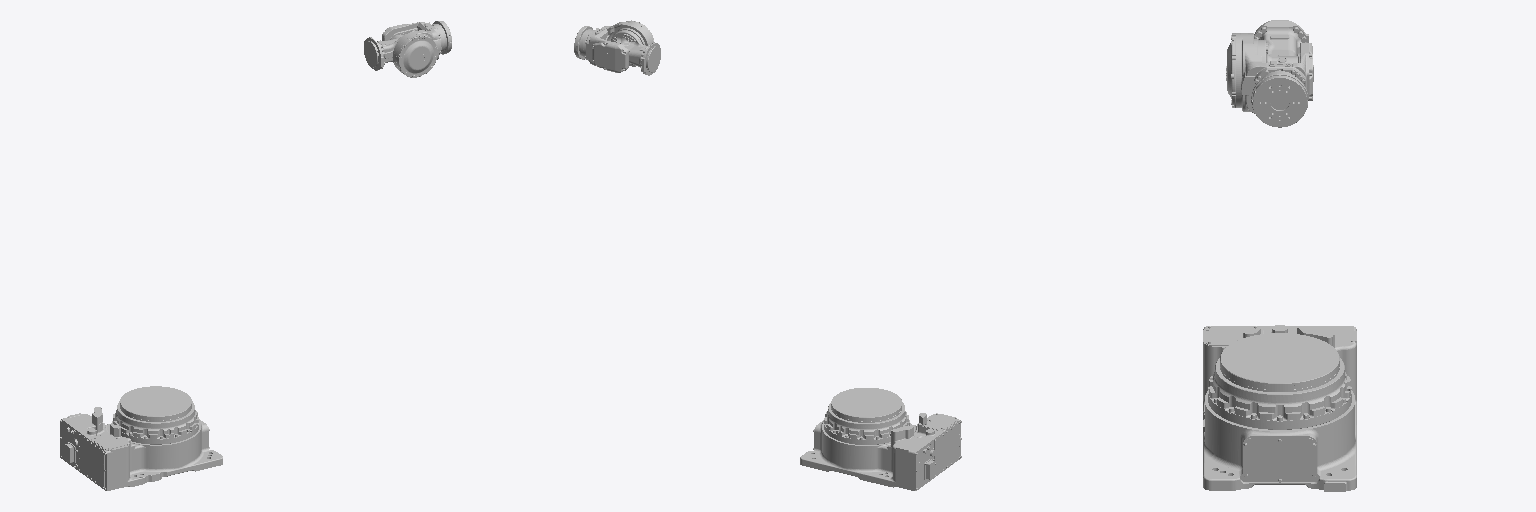
robot.urdf — model:
<?xml version="1.0"?>
<robot name="model">
    <link name="base_link">
        <visual name="GP225_SP210.0 (Meshed)1">
            <material name="">
                <color rgba="0.8 0.8 0.8 1"/>
            </material>
            <geometry>
                <mesh filename="package://snp_blending/urdf/gp225/visual_filtered/base_link_visual_0.stl"/>
            </geometry>
        </visual>

    </link>
    <link name="link_1">
        <visual name="GP225_SP210.1 (Meshed)1">
            <origin xyz="0 0 -0.3"/>
            <material name="">
                <color rgba="0.8 0.8 0.8 1"/>
            </material>
            <geometry>
                <mesh filename="package://snp_blending/urdf/gp225/visual_filtered/link_1_visual_0.stl"/>
            </geometry>
        </visual>
        <collision name="ConvexHull004">
            <origin xyz="0 0 -0.3"/>
            <geometry>
                <mesh filename="package://snp_blending/urdf/gp225/collision_filtered/link_1_ConvexHull004.stl"/>
            </geometry>
        </collision>
    </link>
    <link name="link_2">
        <visual name="Fusion (Meshed)1">
            <origin xyz="-0.325 0 -0.65"/>
            <material name="">
                <color rgba="0.8 0.8 0.8 1"/>
            </material>
            <geometry>
                <mesh filename="package://snp_blending/urdf/gp225/visual_filtered/link_2_visual_0.stl"/>
            </geometry>
        </visual>
        <collision name="ConvexHull002">
            <origin xyz="-0.325 0 -0.65"/>
            <geometry>
                <mesh filename="package://snp_blending/urdf/gp225/collision_filtered/link_2_ConvexHull002.stl"/>
            </geometry>
        </collision>
    </link>
    <link name="link_3">
        <visual name="GP225_SP210.5 (Meshed)1">
            <origin xyz="-0.325 0 -1.8"/>
            <material name="">
                <color rgba="0.8 0.8 0.8 1"/>
            </material>
            <geometry>
                <mesh filename="package://snp_blending/urdf/gp225/visual_filtered/link_3_visual_0.stl"/>
            </geometry>
        </visual>
        <collision name="ConvexHull005">
            <origin xyz="-0.325 0 -1.8"/>
            <geometry>
                <mesh filename="package://snp_blending/urdf/gp225/collision_filtered/link_3_ConvexHull005.stl"/>
            </geometry>
        </collision>
    </link>
    <link name="link_4">
        <visual name="GP225_SP210.6 (Meshed)1">
            <origin xyz="-1.325 0 -2.1"/>
            <material name="">
                <color rgba="0.8 0.8 0.8 1"/>
            </material>
            <geometry>
                <mesh filename="package://snp_blending/urdf/gp225/visual_filtered/link_4_visual_0.stl"/>
            </geometry>
        </visual>
        <collision name="ConvexHull006">
            <origin xyz="-1.325 0 -2.1"/>
            <geometry>
                <mesh filename="package://snp_blending/urdf/gp225/collision_filtered/link_4_ConvexHull006.stl"/>
            </geometry>
        </collision>
    </link>
    <link name="link_5">
        <visual name="GP225_SP210.7 (Meshed)1">
            <origin xyz="-1.548 0 -2.1"/>
            <material name="">
                <color rgba="0.8 0.8 0.8 1"/>
            </material>
            <geometry>
                <mesh filename="package://snp_blending/urdf/gp225/visual_filtered/link_5_visual_0.stl"/>
            </geometry>
        </visual>
        <visual name="GP225_SP210.7 (Meshed)2">
            <origin xyz="-1.548 0 -2.1"/>
            <material name="">
                <color rgba="0.8 0.8 0.8 1"/>
            </material>
            <geometry>
                <mesh filename="package://snp_blending/urdf/gp225/visual_filtered/link_5_visual_0.stl"/>
            </geometry>
        </visual>
        <collision name="ConvexHull007">
            <origin xyz="-1.548 0 -2.1"/>
            <geometry>
                <mesh filename="package://snp_blending/urdf/gp225/collision_filtered/link_5_ConvexHull007.stl"/>
            </geometry>
        </collision>
    </link>
    <link name="link_6">
        <visual name="GP225_SP210.8 (Meshed)">
            <origin xyz="-1.798 0 -2.1"/>
            <material name="">
                <color rgba="0.8 0.8 0.8 1"/>
            </material>
            <geometry>
                <mesh filename="package://snp_blending/urdf/gp225/visual_filtered/link_6_visual.stl"/>
            </geometry>
        </visual>
        <collision name="ConvexHull008">
            <origin xyz="-1.798 0 -2.1"/>
            <geometry>
                <mesh filename="package://snp_blending/urdf/gp225/collision_filtered/link_6_ConvexHull008.stl"/>
            </geometry>
        </collision>
    </link>
    <joint name="joint_link_1" type="revolute">
        <origin xyz="0 0 0.3"/>
        <parent link="base_link"/>
        <child link="link_1"/>
        <axis xyz="0 0 1"/>
        <limit lower="-3.14" upper="3.14" effort="0" velocity="0"/>
    </joint>
    <joint name="joint_link_2" type="revolute">
        <origin xyz="0.325 0 0.35"/>
        <parent link="link_1"/>
        <child link="link_2"/>
        <axis xyz="0 1 0"/>
        <limit lower="-1.05" upper="1.33" effort="0" velocity="0"/>
    </joint>
    <joint name="joint_link_3" type="revolute">
        <origin xyz="0 0 1.15"/>
        <parent link="link_2"/>
        <child link="link_3"/>
        <axis xyz="0 1 0"/>
        <limit lower="-1.5" upper="1.57" effort="0" velocity="0"/>
    </joint>
    <joint name="joint_link_4" type="revolute">
        <origin xyz="1 0 0.3"/>
        <parent link="link_3"/>
        <child link="link_4"/>
        <axis xyz="1 0 0"/>
        <limit lower="-6.28" upper="6.28" effort="0" velocity="0"/>
    </joint>
    <joint name="joint_link_5" type="revolute">
        <origin xyz="0.223 0 0"/>
        <parent link="link_4"/>
        <child link="link_5"/>
        <axis xyz="0 1 0"/>
        <limit lower="-2.18" upper="2.18" effort="0" velocity="0"/>
    </joint>
    <joint name="joint_link_6" type="revolute">
        <origin xyz="0.25 0 0"/>
        <parent link="link_5"/>
        <child link="link_6"/>
        <axis xyz="1 0 0"/>
        <limit lower="-6.28" upper="6.28" effort="0" velocity="0"/>
    </joint>
</robot>

--- What the picture shows (computed from the rendered views, not written in the file) ---
3 views of the same robot in one strip: view 1: azimuth 30°, elevation 25°; view 2: azimuth 150°, elevation 25°; view 3: azimuth 270°, elevation 25° (orthographic).
Robot: model — 7 links, 6 joints (6 revolute); root link base_link; default pose: all joints at 0.
Links seen in each view (by area): view 1: base_link, link_5, link_4; view 2: base_link, link_5, link_4; view 3: base_link, link_5, link_6, link_4.
Boxes of the visible links, x1,y1,x2,y2 form: base_link: (60, 386, 222, 490); link_5: (382, 22, 446, 77); link_4: (364, 33, 436, 76); base_link: (800, 388, 961, 490); link_5: (579, 20, 654, 72); link_4: (611, 21, 660, 75); base_link: (1203, 325, 1356, 491); link_5: (1226, 33, 1313, 113); link_6: (1251, 73, 1307, 127); link_4: (1232, 20, 1308, 107).
Bounding box of the posed robot: 2.28 × 0.5 × 2.22 m (x, y, z).
5 mesh visuals loaded from 7 distinct referenced files (4 binary STL); not drawn: 3 (reference not matched to a file when rendering).